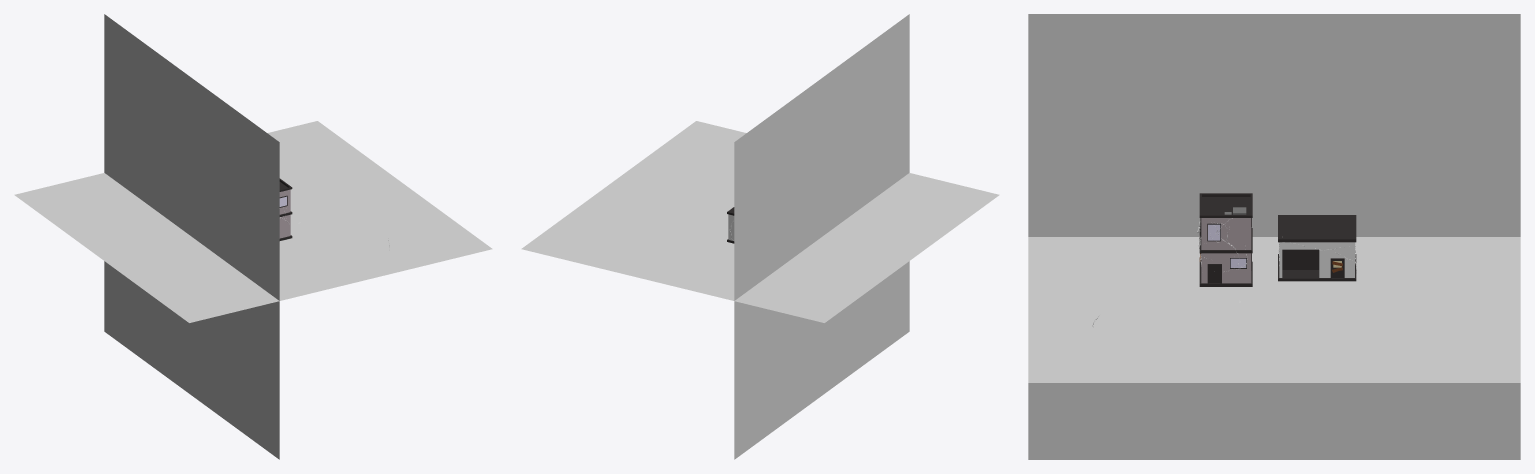
Rendered from Garage+Generic Building.fbx.
3 renders of one model, left to right at view 1: azimuth 30°, elevation 25°; view 2: azimuth 150°, elevation 25°; view 3: azimuth 270°, elevation 25°, orthographic. The views are drawn at different scales.
Parts seen in each view (by area): view 1: Plane.001, Plane, Building; view 2: Plane.001, Plane; view 3: Plane.001, Plane, Cube.001, Building, Windows/Doors, Cube.002.
Boxes of the visible parts, box(x1,y1,x2,y2) form: Plane.001: box(104, 14, 279, 459); Plane: box(14, 121, 492, 322); Building: box(279, 178, 292, 240); Plane.001: box(734, 14, 909, 459); Plane: box(521, 121, 999, 322); Plane.001: box(1028, 14, 1520, 459); Plane: box(1028, 237, 1520, 382); Cube.001: box(1278, 215, 1356, 281); Building: box(1199, 193, 1252, 286); Windows/Doors: box(1200, 218, 1251, 283); Cube.002: box(1282, 249, 1319, 269).
Size of the model in its own units: 11179 by 11179 by 11179.
11 materials, 2 textured.
